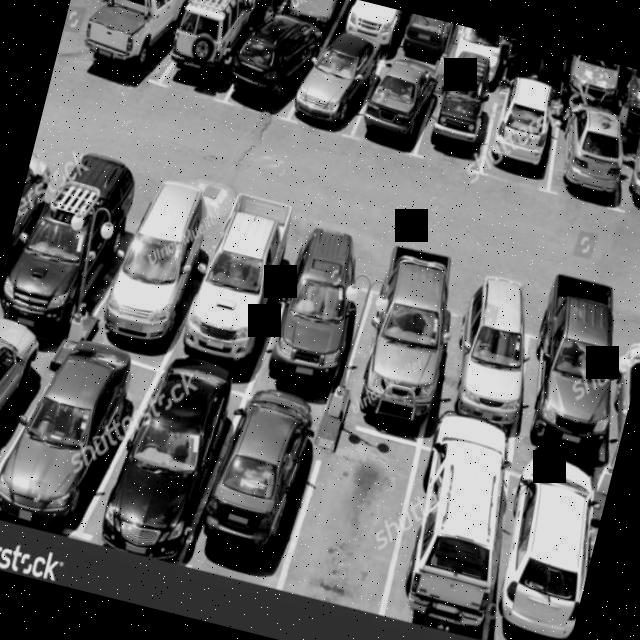car: (0, 339, 159, 533), (85, 368, 244, 560), (187, 393, 330, 582), (390, 449, 509, 640), (0, 173, 143, 323), (340, 279, 457, 440), (494, 474, 598, 640), (169, 246, 295, 383), (86, 225, 211, 363), (517, 326, 619, 470), (440, 312, 530, 438), (75, 0, 183, 76), (0, 321, 55, 456), (551, 103, 623, 206), (482, 91, 557, 183)
free: (286, 422, 418, 606)
